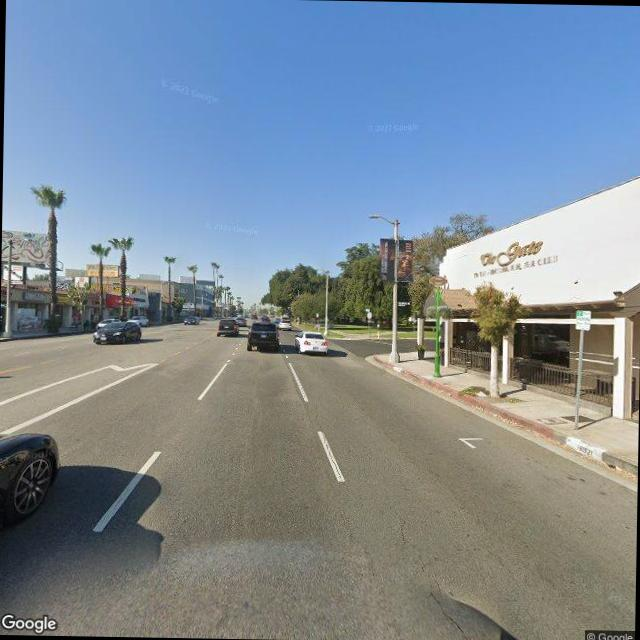pothole: (392, 516, 467, 636)
